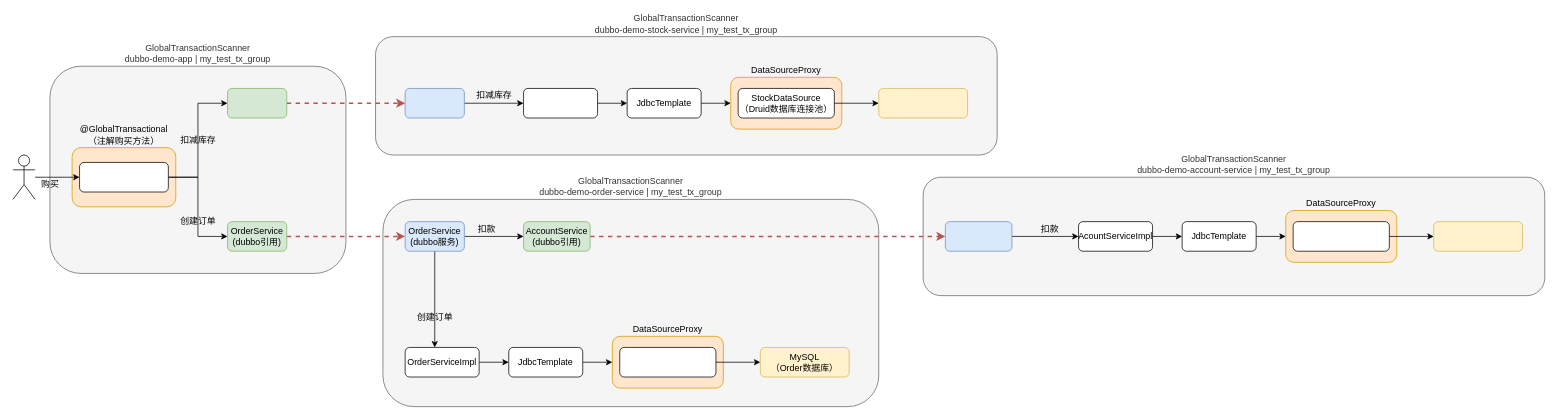
The diagram is 1558 pixels wide and 420 high, and some of its shapes have lost their labels. Here are the shapes that lost their labels. From the top down, the centre of each, then its label:
point 257,103: StockService (dubbo引用)
point 434,103: StockService (dubbo服务)
point 560,103: StockServiceImpl
point 923,103: MySQL （Stock数据库）
point 123,177: BusinessServiceImpl
point 978,236: AccountService (dubbo服务)
point 1340,236: AccountDataSource （Druid数据库连接池）
point 1478,236: MySQL （Account数据库）
point 667,362: OrderDataSource （Druid数据库连接池）
